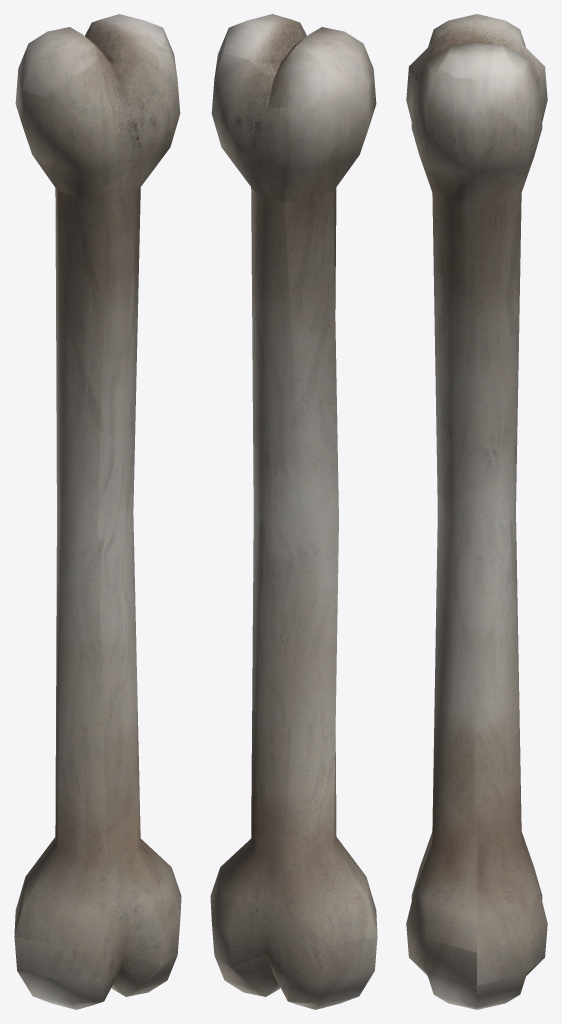
The model's file is BoneClub.glb.
The picture shows the model from 3 angles, left to right: view 1: azimuth 30°, elevation 25°; view 2: azimuth 150°, elevation 25°; view 3: azimuth 270°, elevation 25°; orthographic projection.
Parts seen in each view (by area): view 1: Bone; view 2: Bone; view 3: Bone.
Boxes of the visible parts, <box> form: Bone: <box>14,14,181,1009</box>; Bone: <box>210,14,377,1009</box>; Bone: <box>406,14,547,1009</box>.
Size of the model in its own units: 0.1002 by 0.5524 by 0.0742.
Materials: 1 (1 with a texture image).
